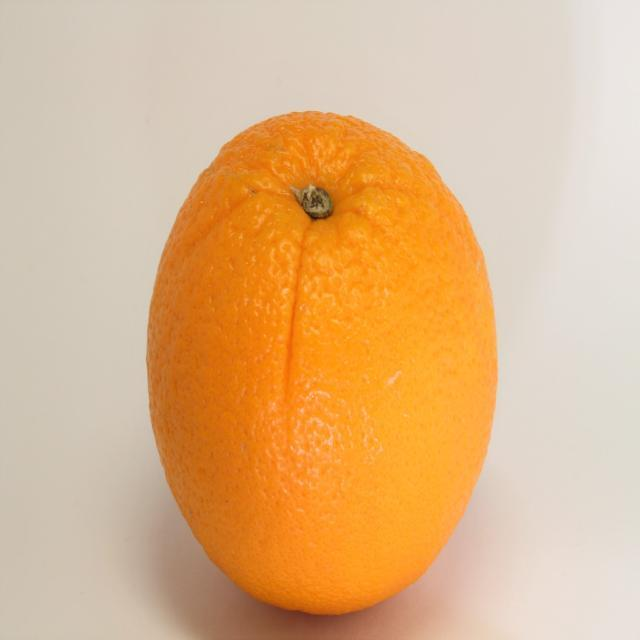Orange: (141, 112, 503, 618)
